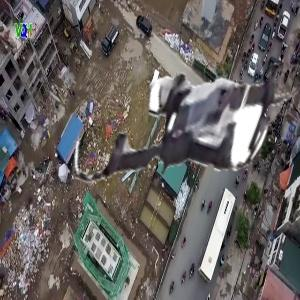drone: (81, 20, 292, 231)
